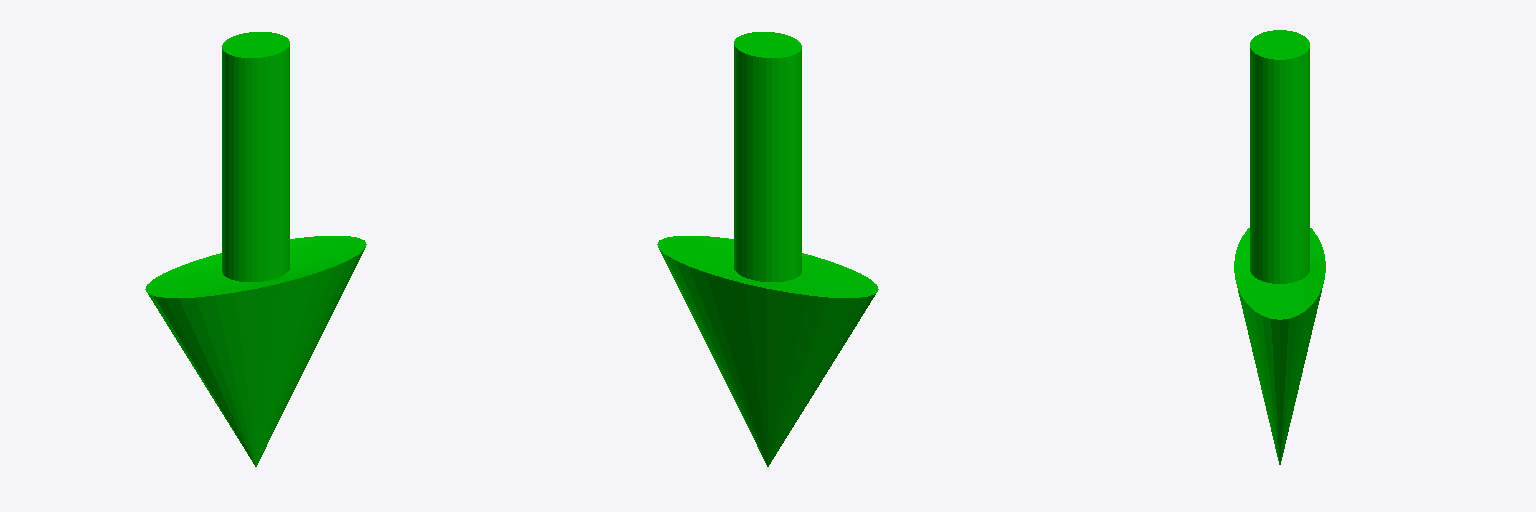
Rendered from arrow_small.obj.
3 renders of one model, left to right at view 1: azimuth 30°, elevation 25°; view 2: azimuth 150°, elevation 25°; view 3: azimuth 270°, elevation 25°, orthographic.
Visible parts, largest first — view 1: Cylinder; view 2: Cylinder; view 3: Cylinder.
Boxes of the visible parts, <box> form: Cylinder: <box>145,32,366,466</box>; Cylinder: <box>657,32,878,466</box>; Cylinder: <box>1234,30,1325,464</box>.
Bounding box in the file's own units: 0.0466 × 0.0867 × 0.0171.